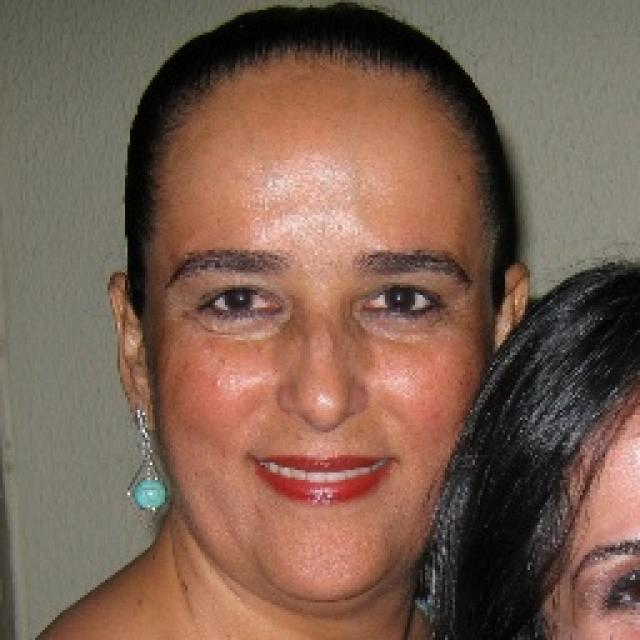earlobe: (129, 397, 156, 436)
eye: (194, 285, 279, 317), (362, 284, 441, 317), (606, 569, 640, 612)
nose: (277, 404, 364, 448)
wholeear: (107, 270, 157, 439), (495, 261, 529, 351)
